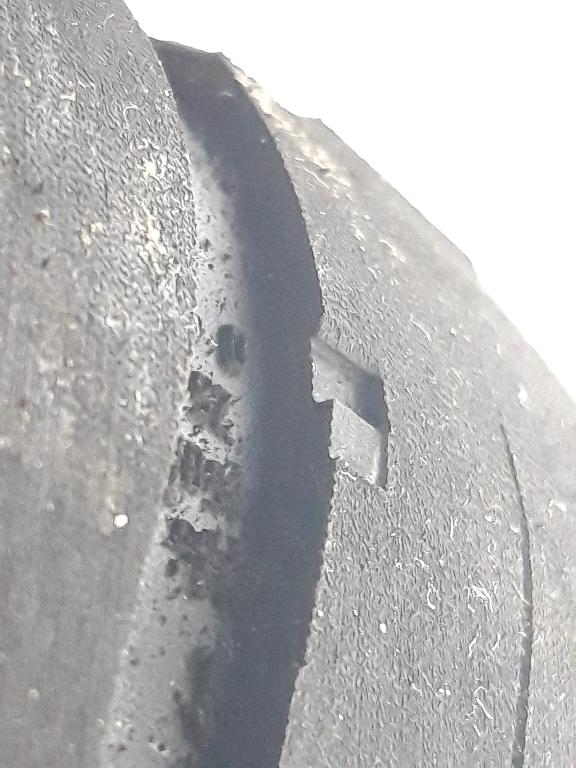temoin:25: (245, 308, 415, 528)
